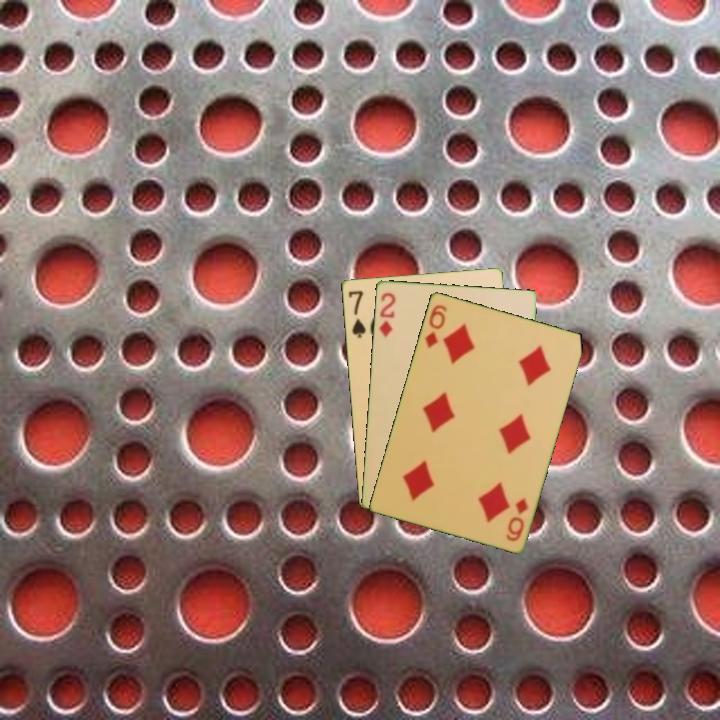2d: (375, 289, 398, 340)
6d: (421, 301, 450, 351), (503, 494, 531, 544)
7s: (345, 287, 368, 341)
